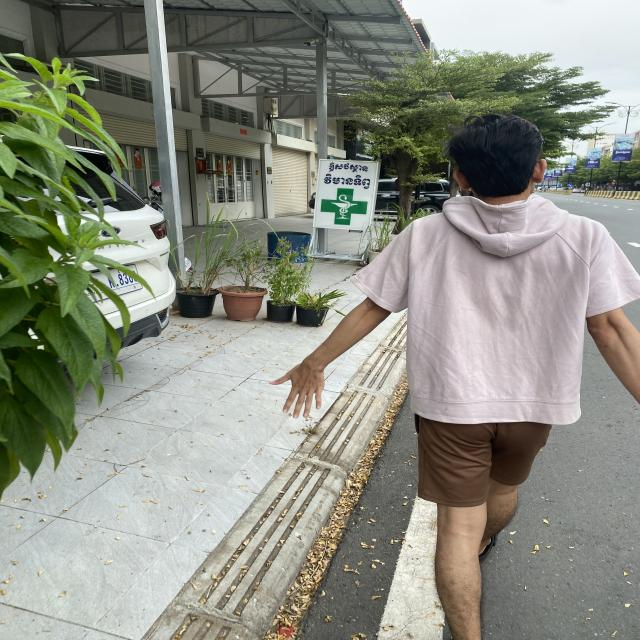893: (116, 271, 131, 286)
Yolov11_80vkh: (321, 172, 373, 190), (325, 160, 370, 175)
